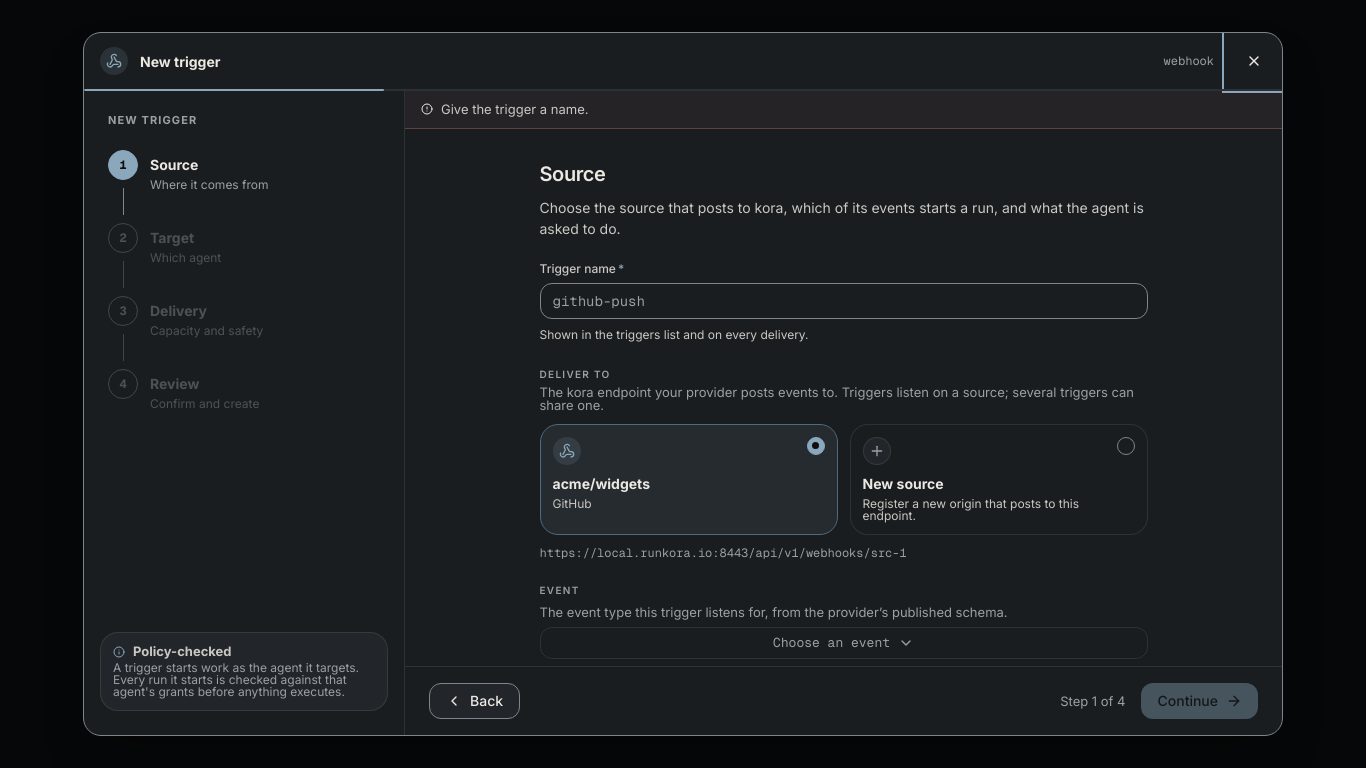
filters and prompt fields › lists the source's event types from its schema, and ones it has sent
The width and height of the screenshot is (1366, 768).
What coordinates should you click on to do the following:
click the button with aria-label "Event type"
I would click on:
 (844, 642)
Its box is [540,626,1148,658].
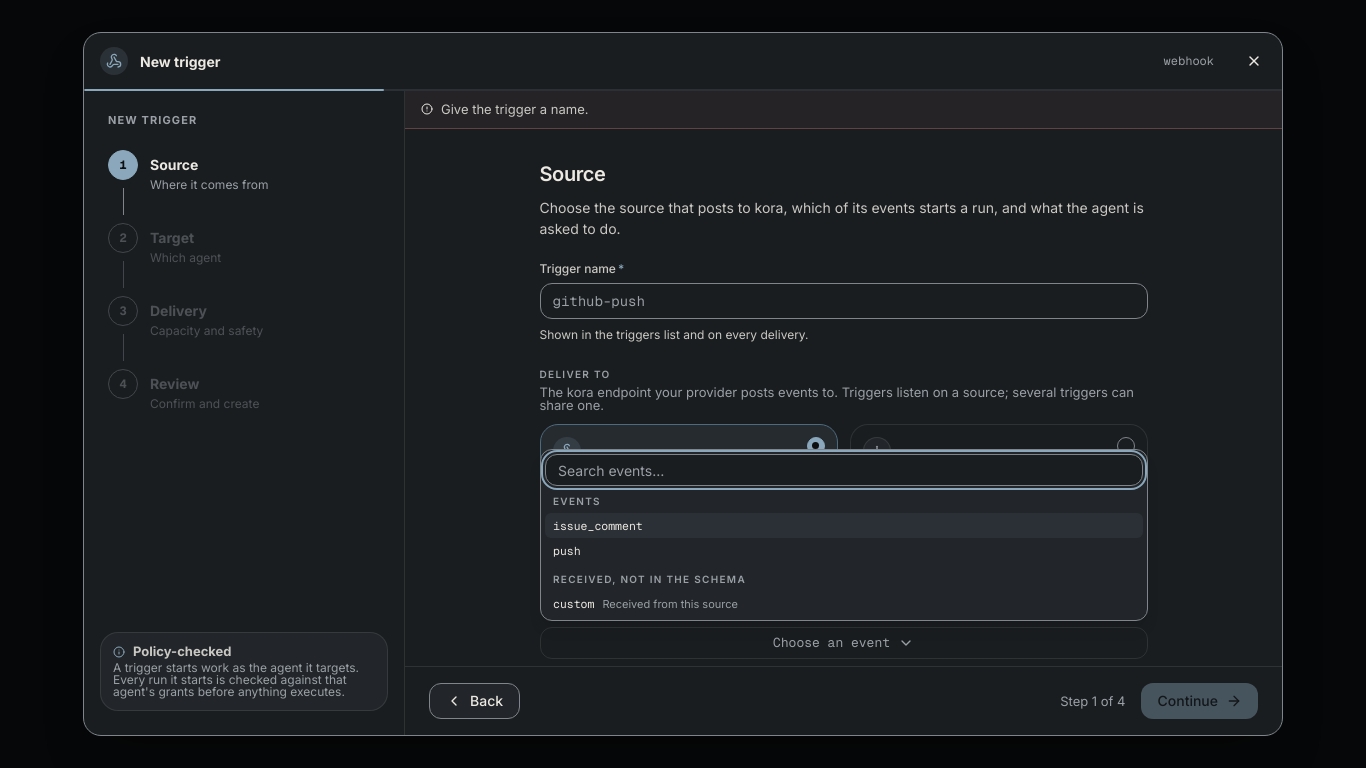
expect the text "issue_comment" is shown: met, box [553,517,643,534]
expect the text "custom" is shown: met, box [553,594,594,612]
expect the field labelled "Search events" is shown: met, box [545,454,1143,486]
